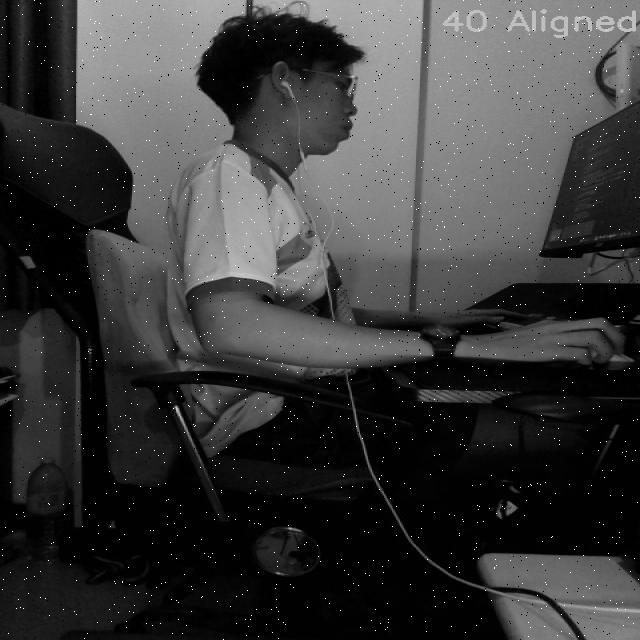Good: (153, 4, 414, 480)
